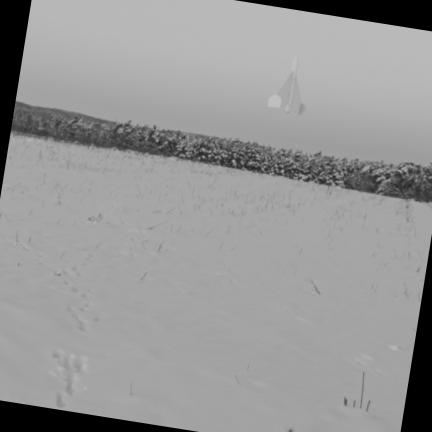Shahed: (268, 57, 305, 114)
